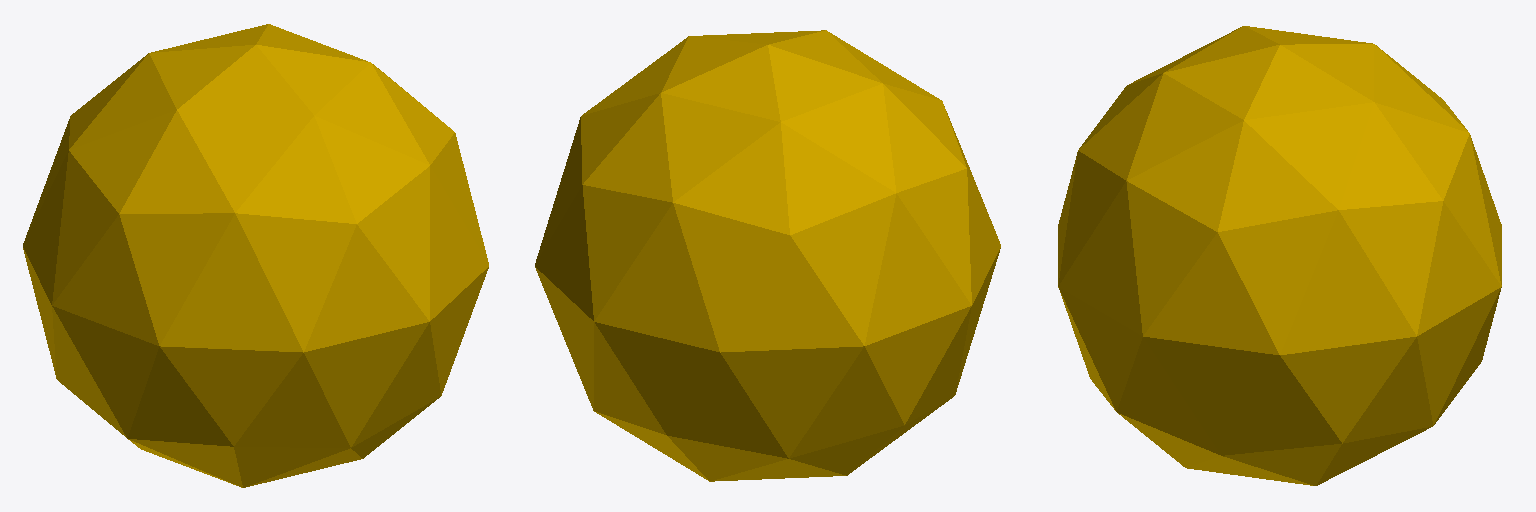
File: shot.obj
3 views of the same model, side by side, from view 1: azimuth 30°, elevation 25°; view 2: azimuth 150°, elevation 25°; view 3: azimuth 270°, elevation 25° (orthographic).
Visible parts, largest first — view 1: Ball; view 2: Ball; view 3: Ball.
Boxes of the visible parts, box(x1,y1,x2,y2) form: Ball: box(23, 24, 488, 487); Ball: box(535, 30, 1000, 481); Ball: box(1058, 26, 1501, 485).
Bounding box in the file's own units: 2.03 × 2.01 × 1.91.